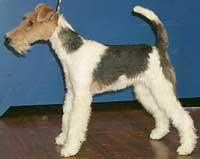wire-haired_fox_terrier: (4, 2, 198, 158)
